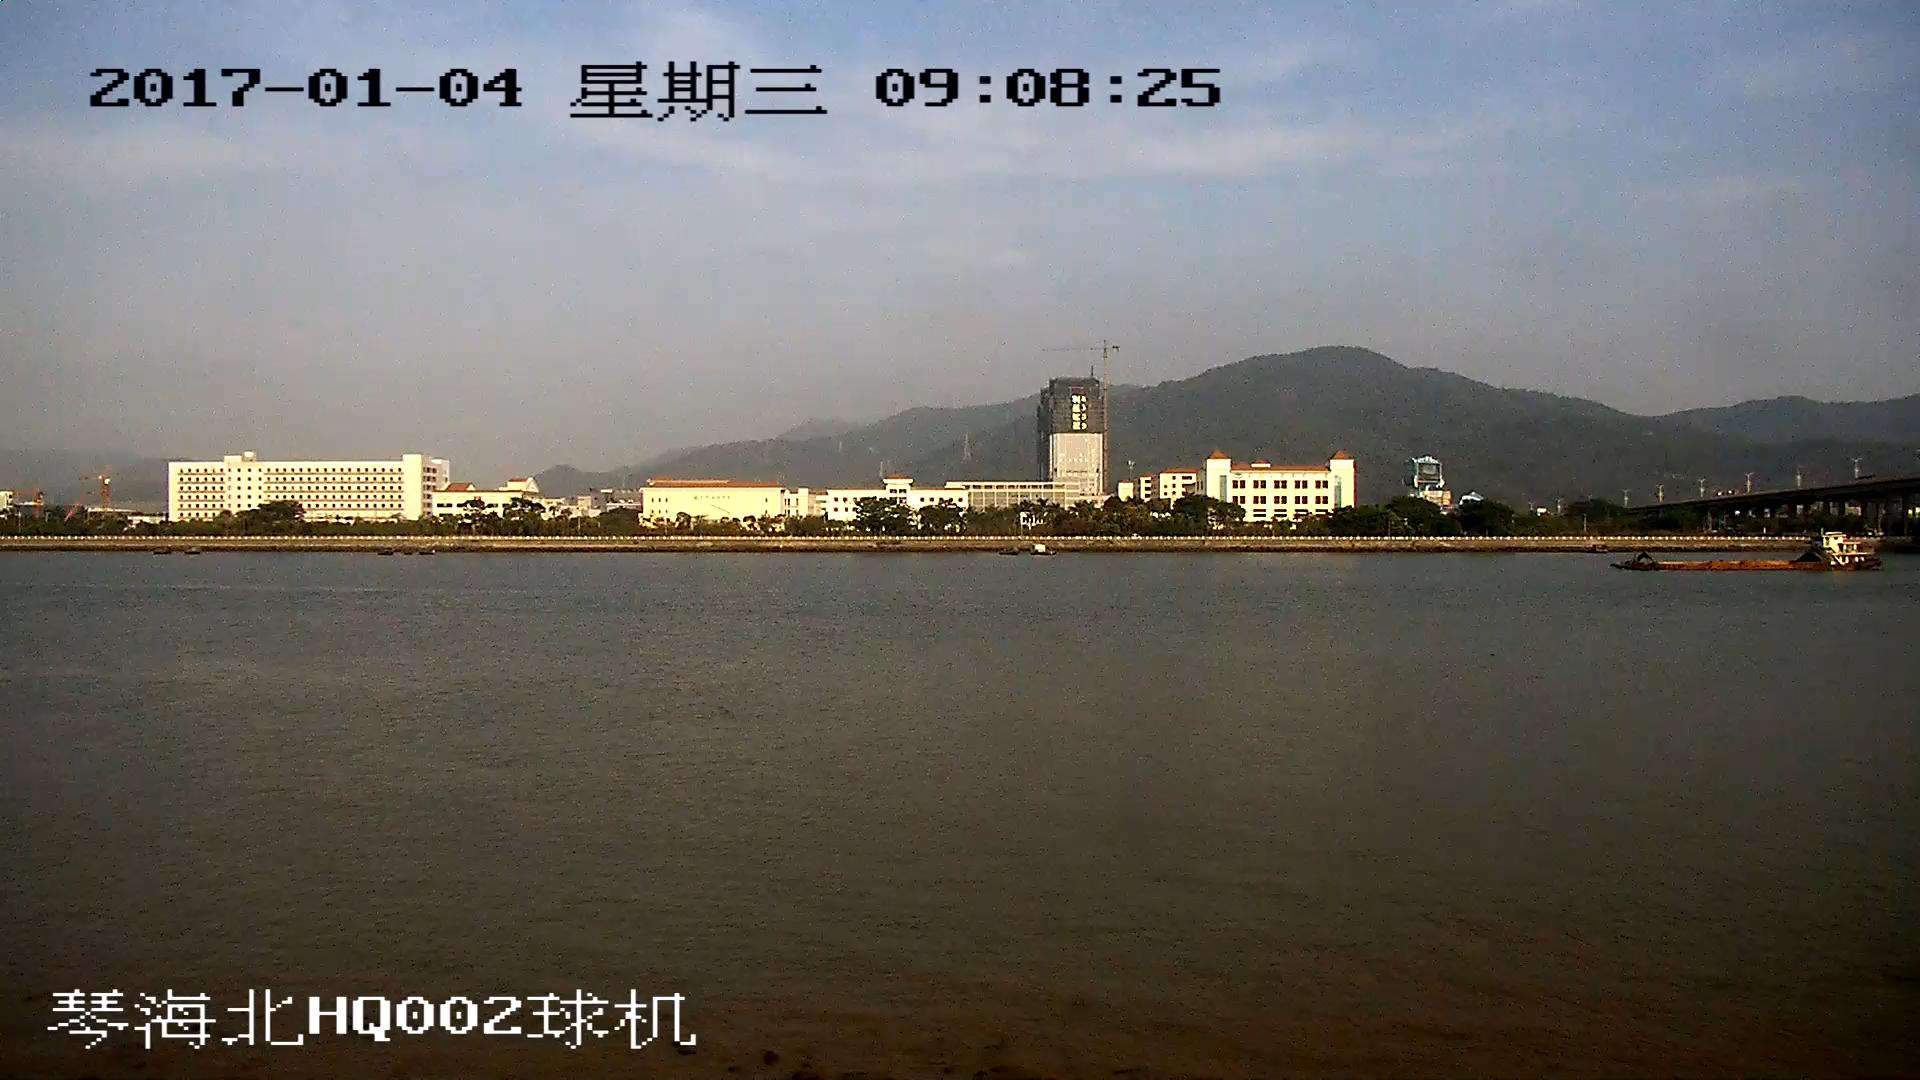ore carrier: (1621, 531, 1873, 572)
